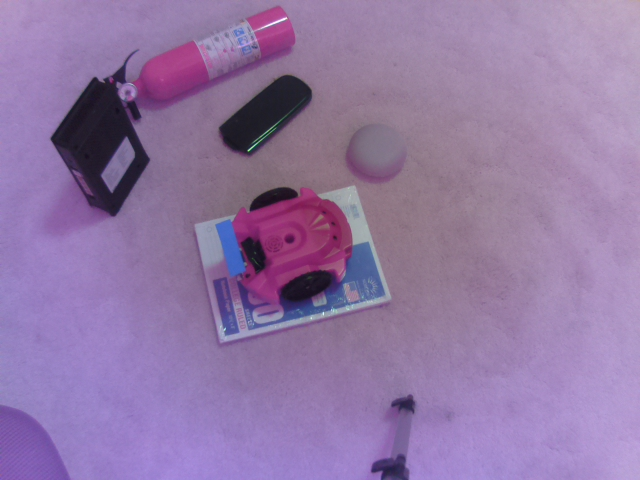board: (218, 220, 253, 282)
chassis: (227, 178, 362, 309)
